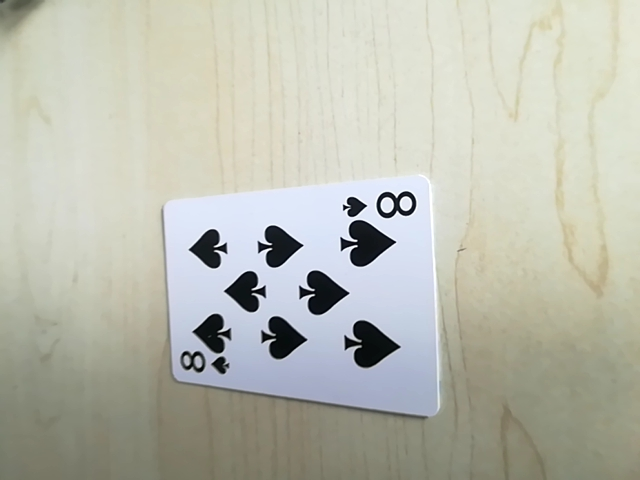ht 8: (343, 186, 422, 223), (172, 346, 233, 381)
